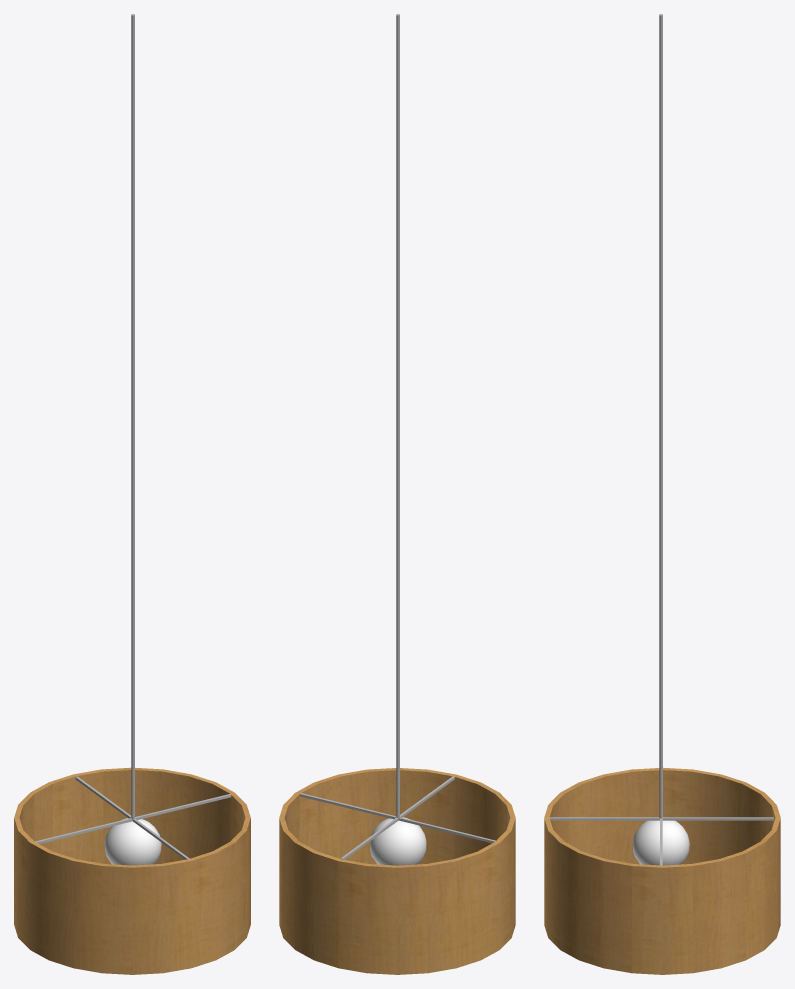
File: lamp.dae
3 views of the same model, side by side, from view 1: azimuth 30°, elevation 25°; view 2: azimuth 150°, elevation 25°; view 3: azimuth 270°, elevation 25° (orthographic).
Parts seen in each view (by area): view 1: Group1, Group2, ske55, Group3; view 2: Group1, Group2, ske55, Group3; view 3: Group1, Group2, ske55, Group3.
Part boxes in pixels (x1,y1,x2,y2): Group1: (14, 767, 250, 974); Group2: (131, 14, 134, 818); ske55: (104, 818, 161, 865); Group3: (35, 776, 231, 859); Group1: (279, 768, 515, 974); Group2: (396, 14, 399, 817); ske55: (370, 817, 426, 865); Group3: (299, 776, 495, 859); Group1: (544, 767, 780, 974); Group2: (659, 14, 662, 818); ske55: (632, 817, 689, 865); Group3: (548, 817, 773, 865).
Bounding box in the file's own units: 90 × 90 × 382.
4 materials, 1 textured.
